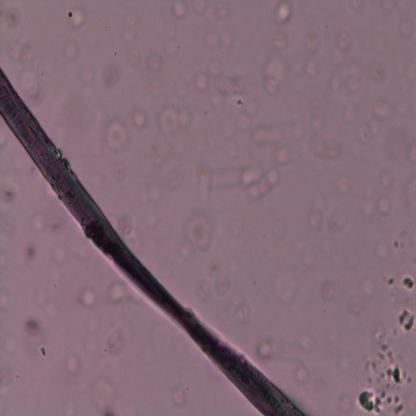Background material: (364, 342, 408, 413), (196, 166, 280, 198), (207, 61, 250, 108), (252, 121, 294, 164), (184, 210, 213, 253), (272, 259, 299, 305), (263, 54, 292, 94), (91, 375, 118, 415), (204, 25, 235, 56), (160, 105, 190, 136), (310, 135, 342, 162), (19, 68, 43, 102), (104, 121, 130, 152), (35, 287, 58, 319), (232, 288, 252, 324), (138, 178, 164, 204), (330, 203, 350, 234), (8, 40, 34, 61), (123, 10, 139, 42), (347, 64, 363, 96), (65, 8, 87, 31), (304, 31, 322, 58), (334, 169, 353, 194), (106, 330, 124, 356), (398, 309, 416, 335), (274, 2, 294, 25), (111, 158, 129, 183), (377, 164, 394, 190), (258, 338, 278, 360), (397, 21, 416, 44), (358, 388, 376, 412), (372, 100, 392, 121), (79, 286, 98, 308), (272, 29, 290, 52), (65, 354, 82, 378), (335, 27, 352, 50), (131, 107, 148, 130), (320, 278, 336, 302), (193, 69, 209, 93), (368, 58, 386, 79), (166, 168, 184, 189), (349, 293, 365, 316), (171, 1, 190, 20), (376, 195, 394, 215), (307, 210, 324, 231), (375, 240, 392, 261), (63, 39, 79, 61), (295, 363, 310, 386), (30, 211, 48, 230), (51, 245, 69, 264), (360, 276, 375, 298), (125, 48, 142, 67), (0, 184, 17, 203), (272, 215, 286, 238), (172, 385, 187, 406), (163, 39, 178, 59), (339, 394, 353, 415), (358, 124, 372, 145), (24, 319, 41, 336), (81, 67, 96, 86), (110, 284, 125, 303), (148, 52, 162, 72), (144, 208, 158, 228), (304, 60, 319, 78), (192, 1, 210, 16), (338, 353, 352, 372), (216, 275, 229, 295), (25, 242, 37, 262), (406, 142, 416, 166), (381, 0, 398, 13), (402, 276, 415, 291), (393, 403, 405, 414), (387, 274, 396, 286), (40, 347, 47, 358)
Cotton: (0, 70, 304, 414)
